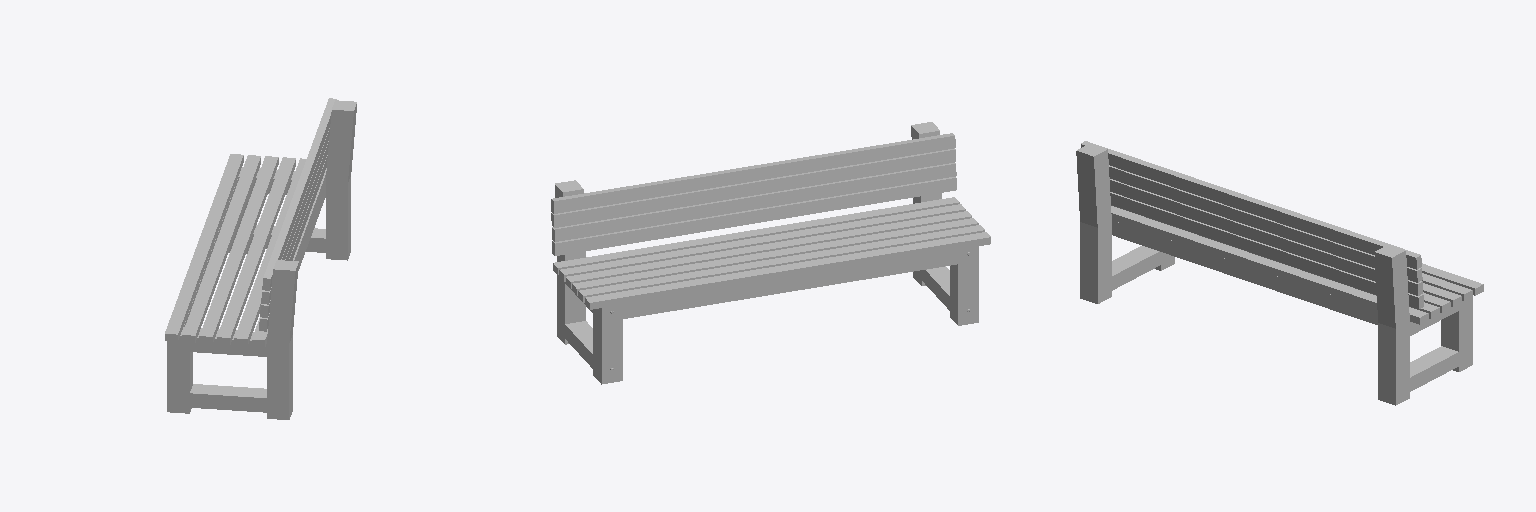
The model's file is uploads_files_3982311_Bench.obj.
3 renders of one model, left to right at view 1: azimuth 30°, elevation 25°; view 2: azimuth 150°, elevation 25°; view 3: azimuth 270°, elevation 25°, orthographic.
Parts seen in each view (by area): view 1: Cube.005_low_Cube.006; view 2: Cube.005_low_Cube.006; view 3: Cube.005_low_Cube.006.
Part boxes in pixels (x1,y1,x2,y2): Cube.005_low_Cube.006: (165,98,356,419); Cube.005_low_Cube.006: (551,122,990,384); Cube.005_low_Cube.006: (1076,141,1483,405).
Bounding box in the file's own units: 0.7219 × 0.3283 × 0.8093.